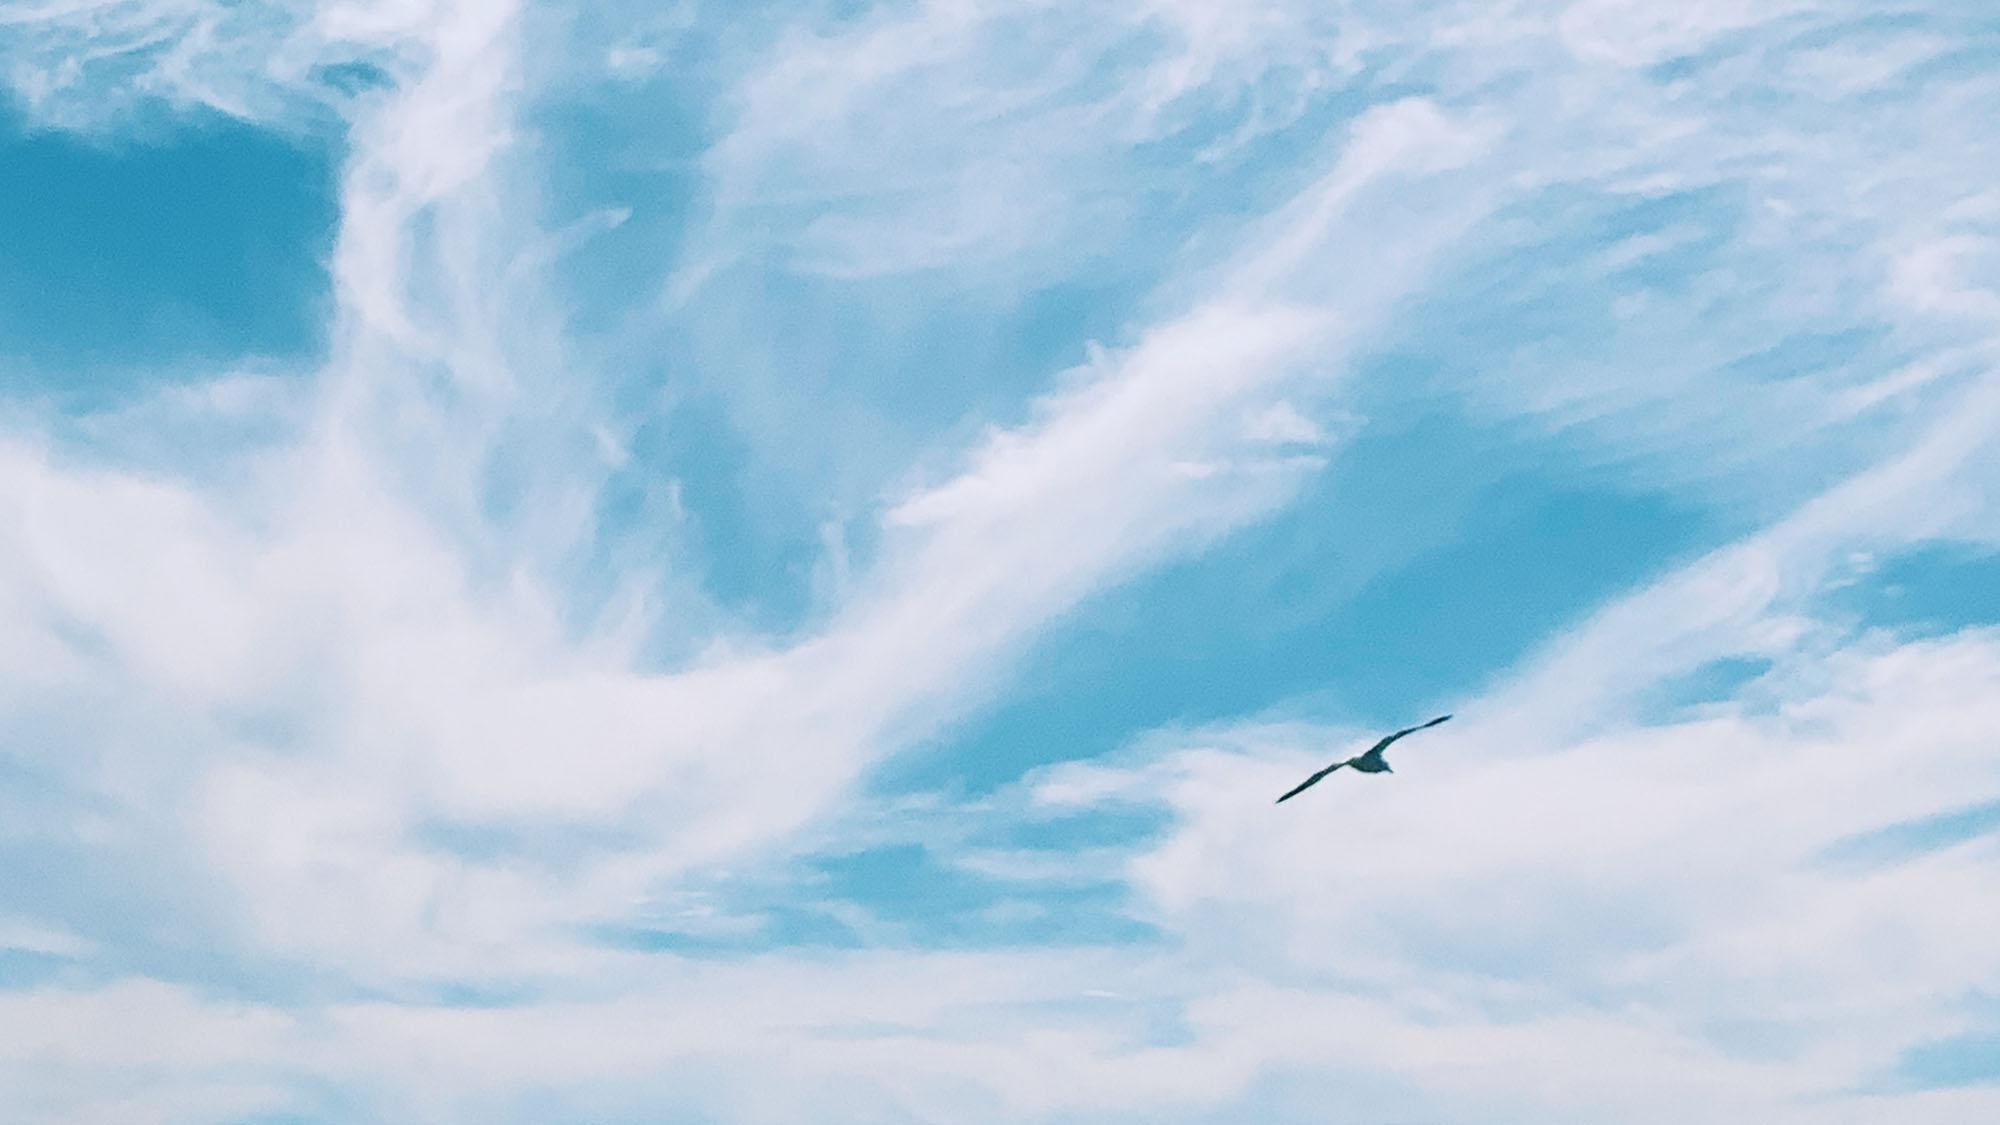bird: (1260, 694, 1466, 815)
